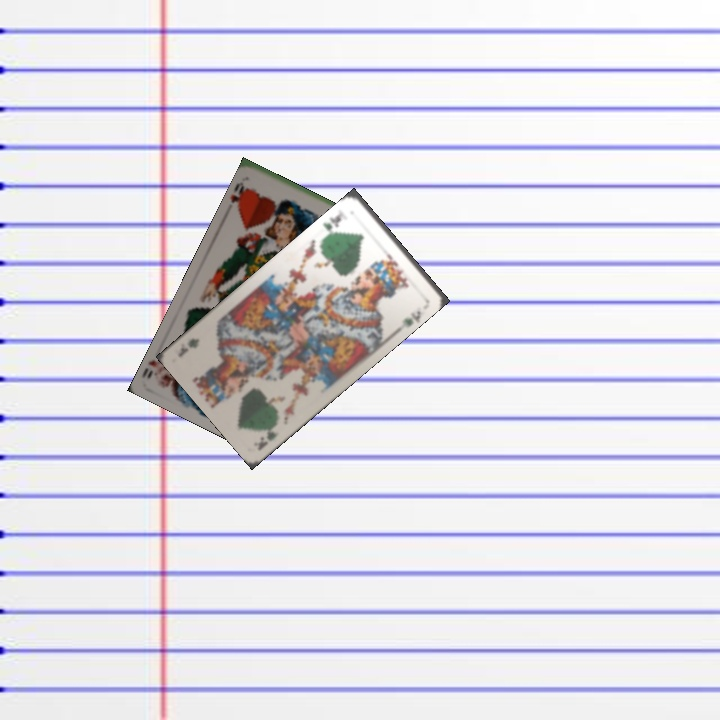GK: (250, 425, 279, 453), (319, 210, 345, 240)
HO: (226, 178, 252, 214)
